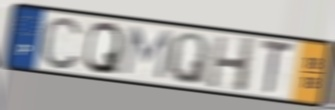C: (38, 14, 84, 72)
H: (206, 34, 258, 95)
M: (119, 24, 174, 82)
Q: (166, 31, 211, 88), (82, 20, 125, 76)
T: (259, 38, 296, 97)
